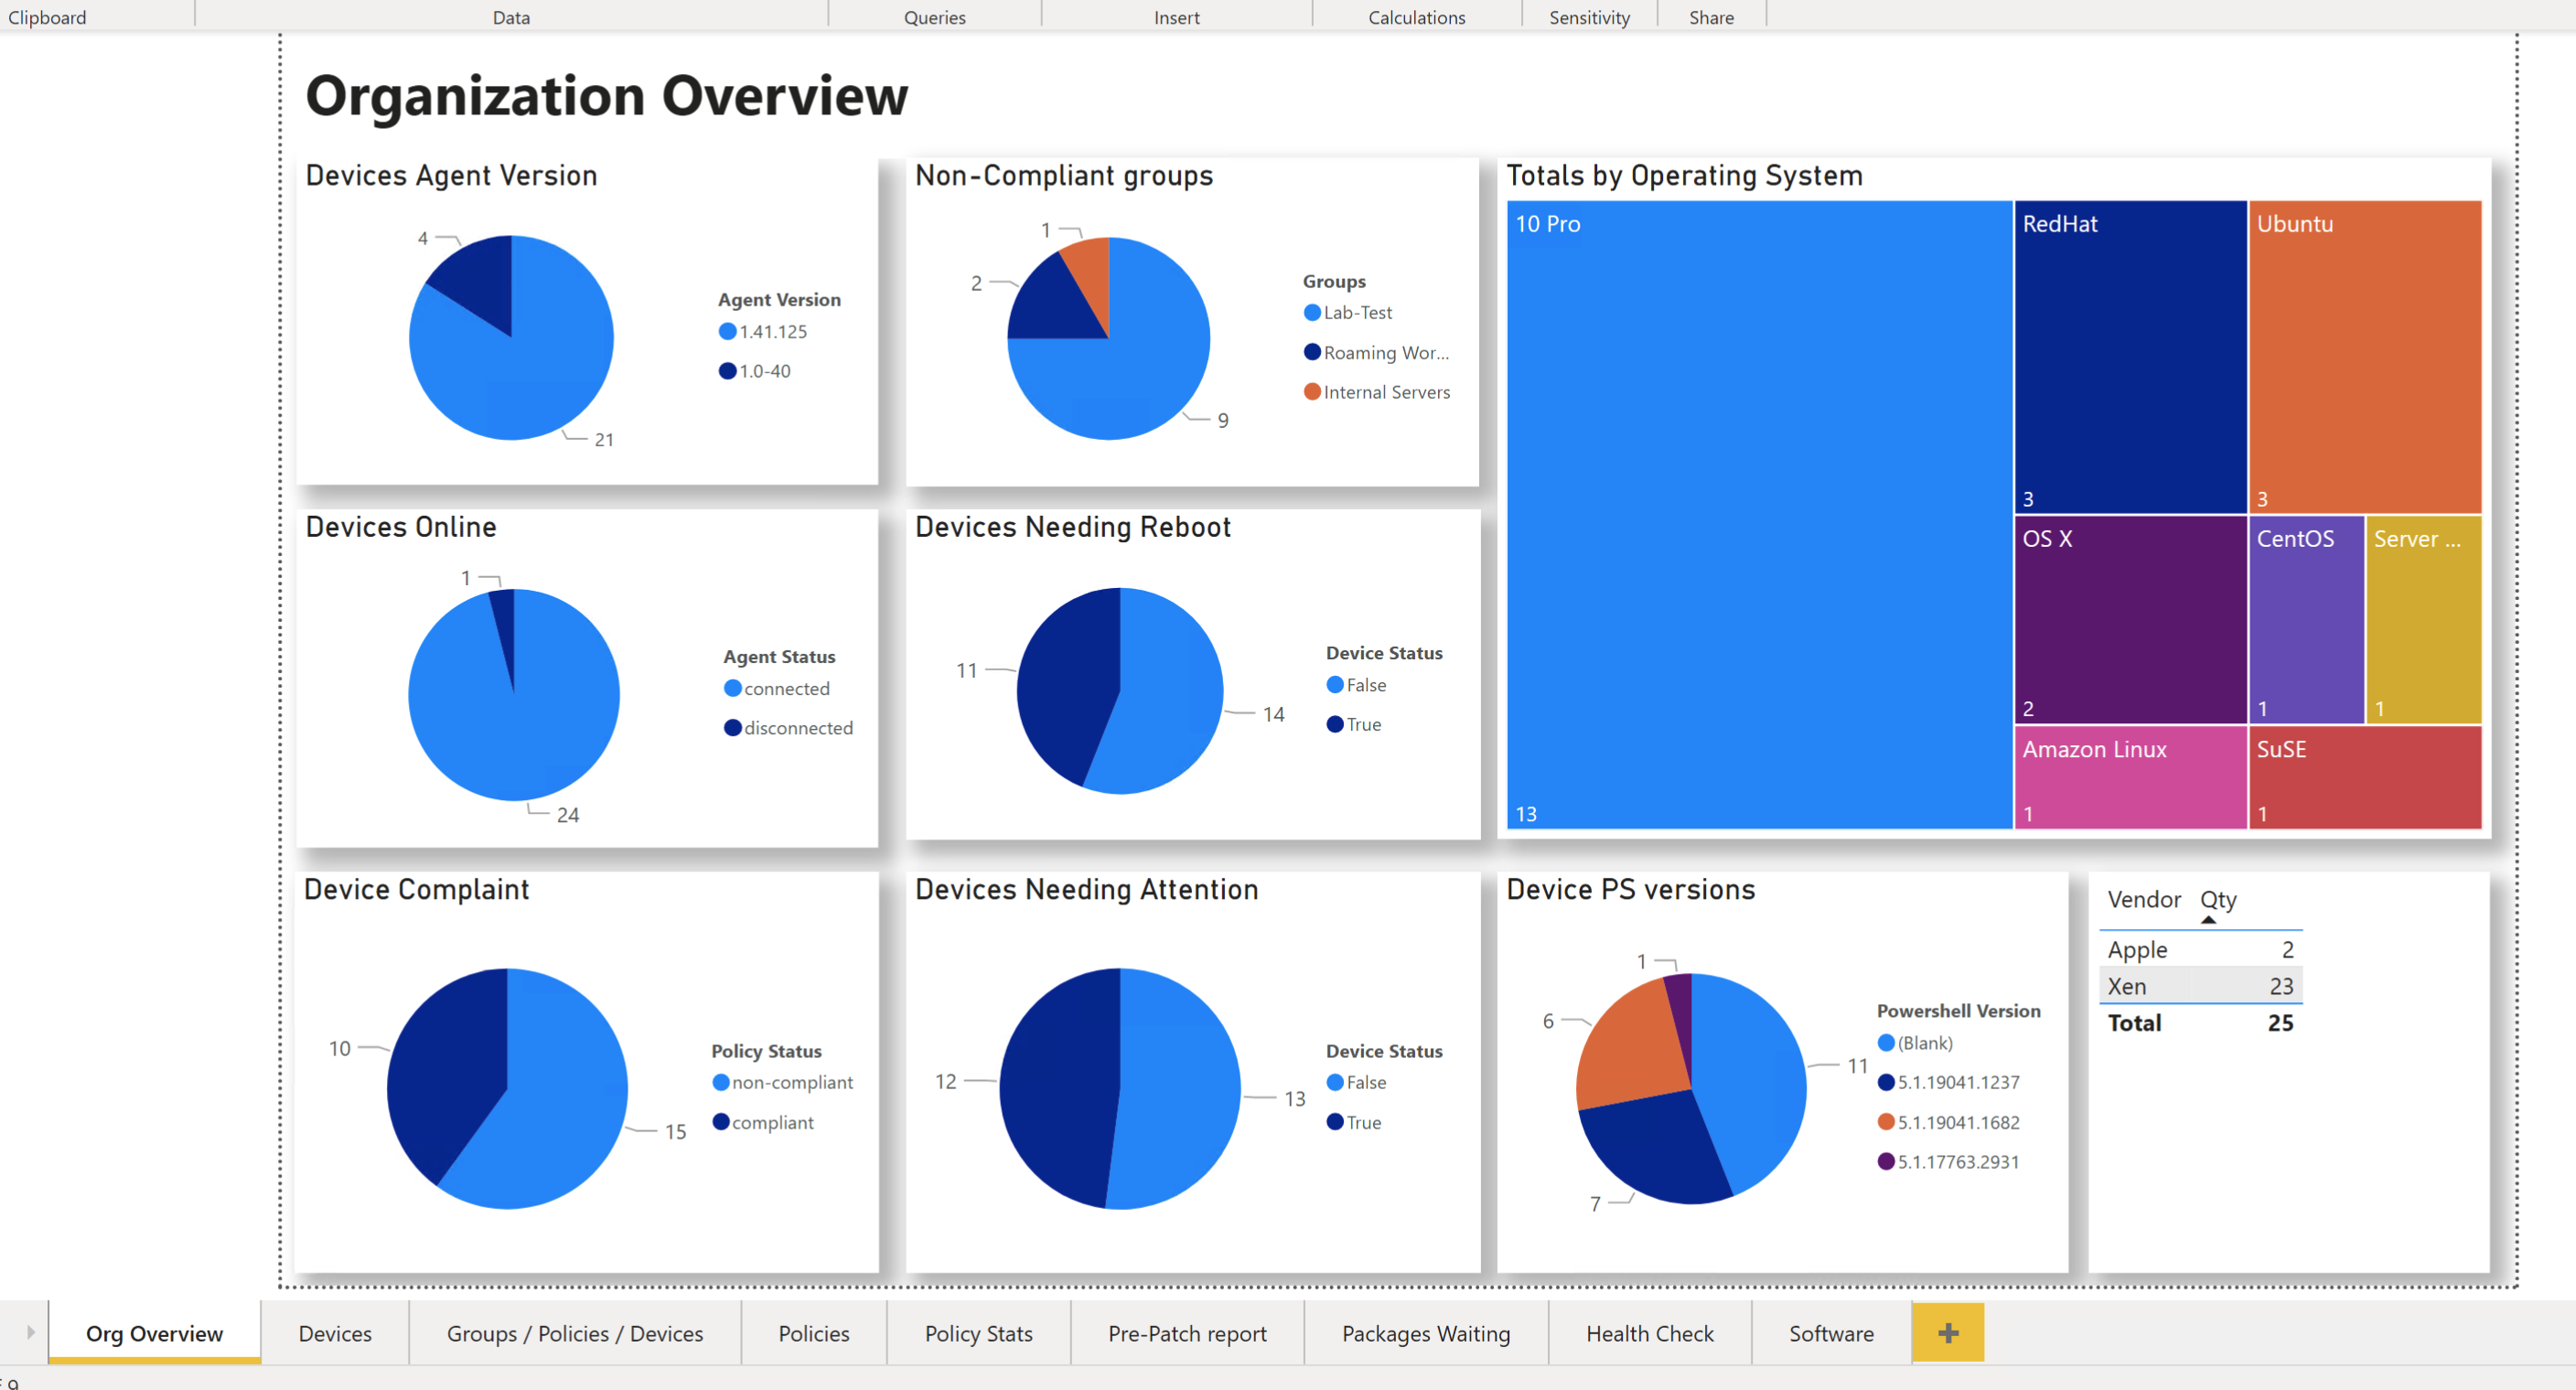

The page's visual inventory and layout, read from the dashboard file:
{"tool":"powerbi","page":{"name":"Org Overview","canvas":[1280,720],"ordinal":0},"visuals":[{"type":"pieChart","title":"Devices Agent Version","fields":{"Category":["Servers.agent_version"],"Y":["Count(Servers.id)"]},"box":[8.3,73.6,333.7,187.6],"z":0},{"type":"textbox","box":[8.3,9.3,381.4,64.3],"z":1000},{"type":"pieChart","title":"Devices Online","fields":{"Category":["Servers.status.agent_status"],"Y":["Count(Servers.id)"]},"box":[8.3,274.7,333.7,193.8],"z":2000},{"type":"pieChart","title":"Device Complaint","fields":{"Category":["Servers.status.policy_status"],"Y":["Count(Servers.id)"]},"box":[7.3,483,334.8,230.1],"z":3000},{"type":"pieChart","title":"Non-Compliant groups","fields":{"Category":["prepatch.prepatch.devices.group"],"Y":["Count(prepatch.prepatch.devices.name)"]},"box":[357.6,73.6,328.6,188.6],"z":4000},{"type":"pieChart","title":"Devices Needing Reboot","fields":{"Category":["Servers.needs_reboot"],"Y":["Count(Servers.id)"]},"box":[357.6,274.7,329.6,189.7],"z":5000},{"type":"pieChart","title":"Devices Needing Attention","fields":{"Category":["Servers.needs_attention"],"Y":["Count(Servers.id)"]},"box":[357.6,483,329.6,230.1],"z":6000},{"type":"treemap","title":"Totals by Operating System","fields":{"Group":["Servers.os_name"],"Values":["Count(Servers.id)"]},"box":[696.5,73.6,570,390.7],"z":7000},{"type":"pieChart","title":"Device PS versions","fields":{"Category":["Servers.detail.PS_VERSION"],"Y":["Count(Servers.id)"]},"box":[696.5,483,327.5,230.1],"z":8000},{"type":"tableEx","title":"Device Vendors","fields":{"Values":["Servers.detail.VENDOR","Count(Servers.id)"]},"box":[1035.4,483,230.1,230.1],"z":9000}]}

Visuals, with their boxes on the page's 1280x720 design canvas (x1, y1, x2, y2). These are canvas units, not pixel positions in the 2576x1390 screenshot, which may show the page scaled, cropped or inside an application window:
"Devices Agent Version" pieChart: 8,74,342,261
textbox: 8,9,390,74
"Devices Online" pieChart: 8,275,342,468
"Device Complaint" pieChart: 7,483,342,713
"Non-Compliant groups" pieChart: 358,74,686,262
"Devices Needing Reboot" pieChart: 358,275,687,464
"Devices Needing Attention" pieChart: 358,483,687,713
"Totals by Operating System" treemap: 696,74,1266,464
"Device PS versions" pieChart: 696,483,1024,713
"Device Vendors" tableEx: 1035,483,1266,713
